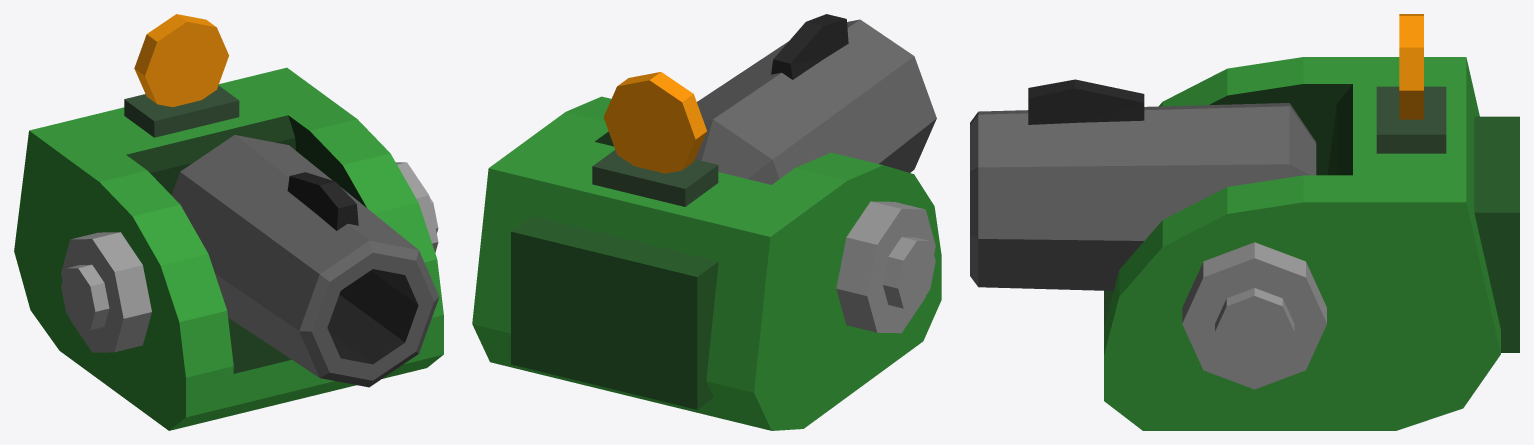
File: big_cannon.fbx
3 views of the same model, side by side, from view 1: azimuth 30°, elevation 25°; view 2: azimuth 150°, elevation 25°; view 3: azimuth 270°, elevation 25° (orthographic). The views are drawn at different scales.
Parts seen in each view (by area): view 1: Cube.032, Circle.010, Cylinder.013, Cylinder.012, Cube.033; view 2: Cube.032, Cube.004, Circle.010, Cylinder.013, Cylinder.012, Cube.033; view 3: Cube.032, Circle.010, Cylinder.012, Cube.004, Cylinder.013, Cube.033.
Boxes of the visible parts, x1,y1,x2,y2 form: Cube.032: (14, 67, 443, 430); Circle.010: (171, 135, 439, 387); Cylinder.013: (124, 14, 239, 137); Cylinder.012: (61, 162, 438, 352); Cube.033: (287, 172, 358, 230); Cube.032: (472, 96, 941, 430); Cube.004: (511, 216, 718, 409); Circle.010: (695, 19, 936, 184); Cylinder.013: (592, 72, 718, 206); Cylinder.012: (836, 201, 935, 333); Cube.033: (771, 14, 848, 79); Cube.032: (1104, 57, 1500, 430); Circle.010: (970, 103, 1316, 290); Cylinder.012: (1182, 242, 1326, 389); Cube.004: (1474, 116, 1519, 352); Cylinder.013: (1376, 14, 1446, 153); Cube.033: (1028, 79, 1144, 124).
Size of the model in its own units: 127 by 105 by 152.
